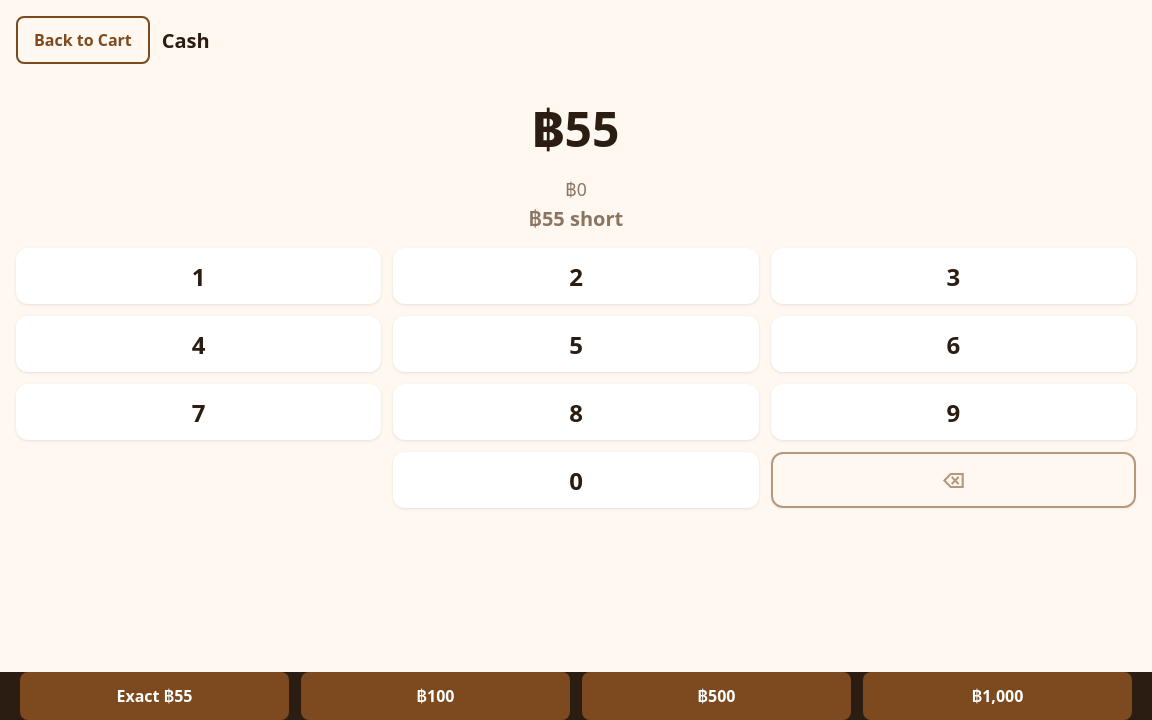
Test: CashScreen › disables Back, every keypad key and every tender button while a note-tender save is pending
This screenshot has width=1152, height=720.
Click the button "Exact ฿55": (154, 696) [20,672,289,719]
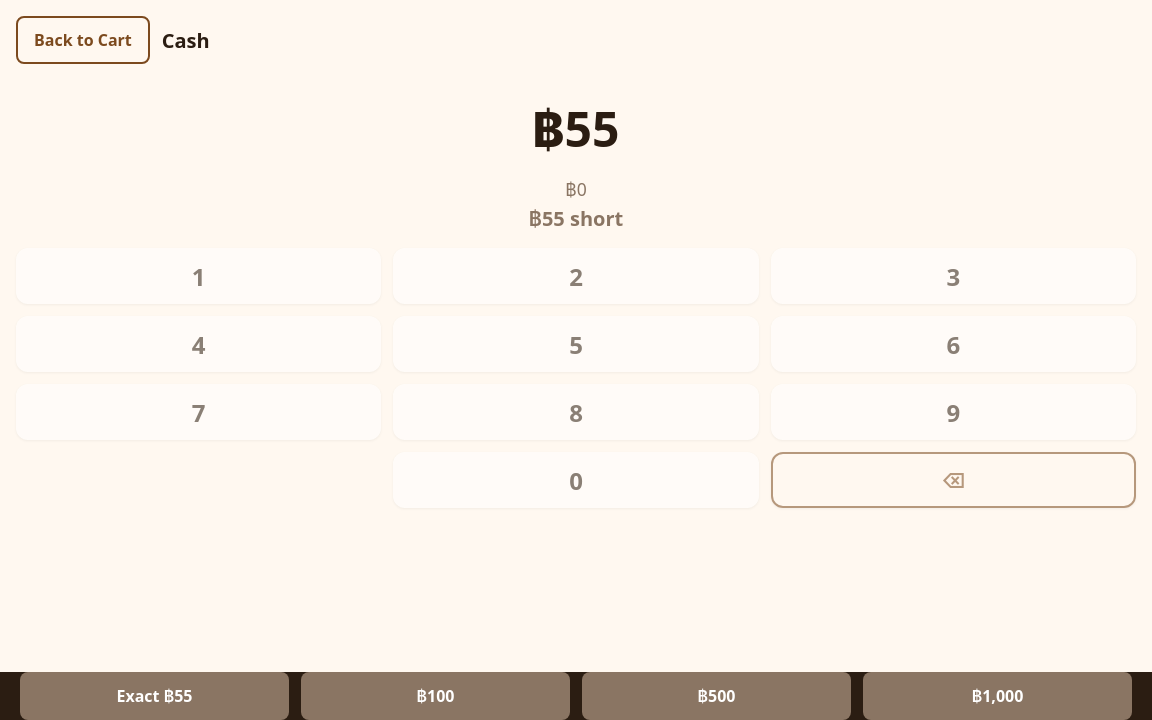
Expected: the button "1" is disabled, [16,248,381,304]
Expected: the button "2" is disabled, [393,248,759,304]
Expected: the button "3" is disabled, [771,248,1136,304]
